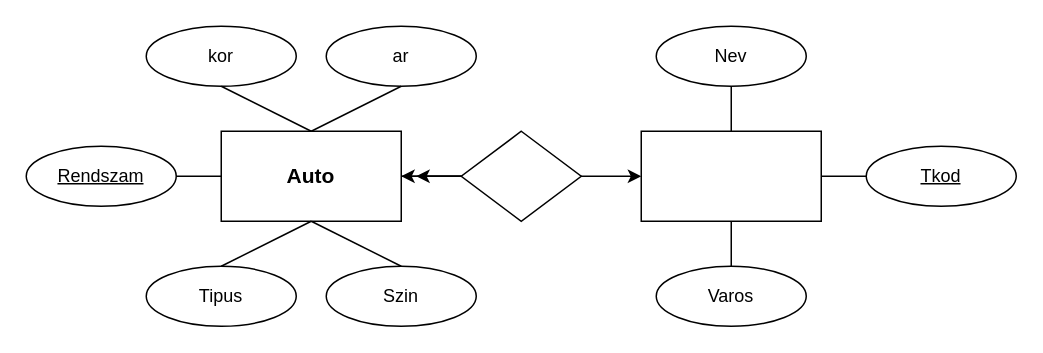
Some shapes in this 1043 by 353 pixel diagram are drawn without their labels. Here are the shapes that lost their labels. From the top down, the centre of each, then its label:
At pixel 520 175: "A-T".
At pixel 730 175: "Tulajdonos".
